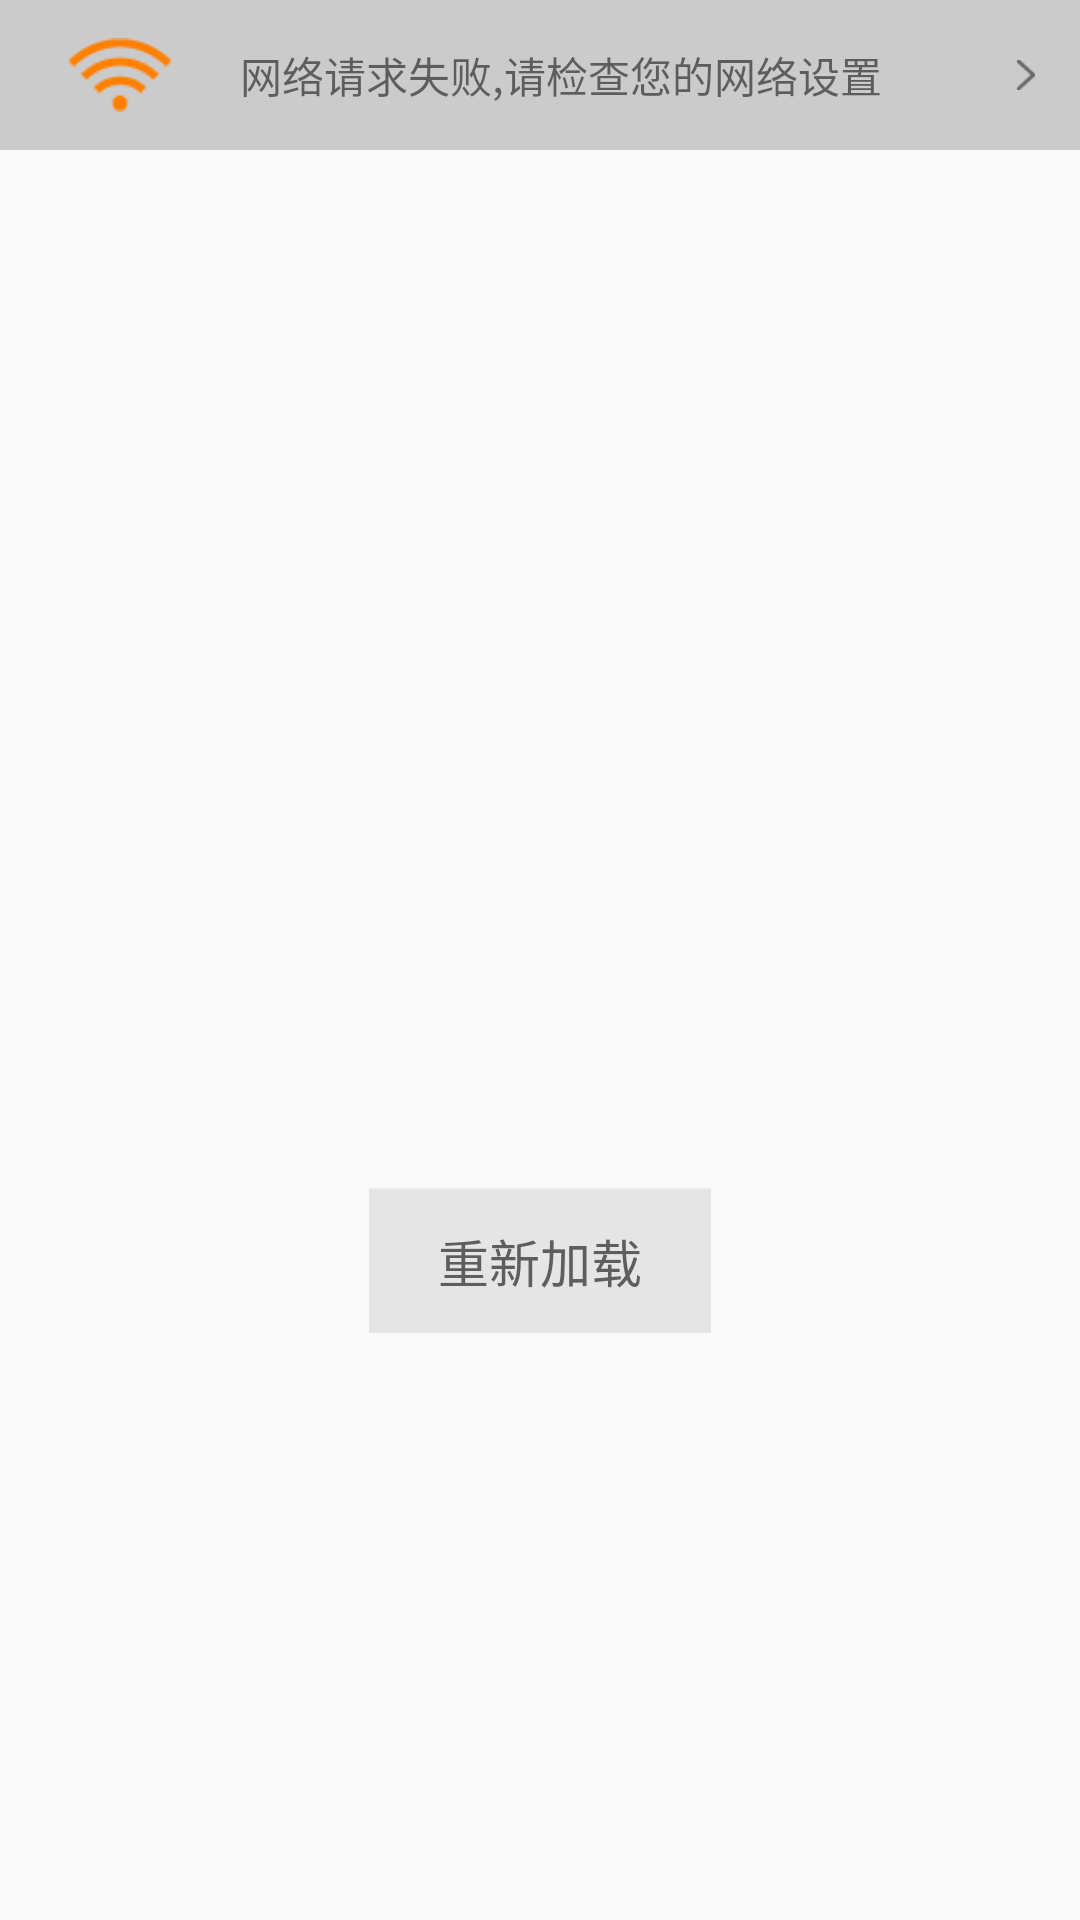

Icons on this 1080*1920 Android screen, each with the point to tap as [x,y]:
net log: [120,75]
